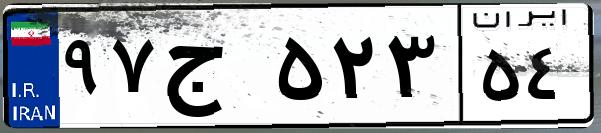2: (330, 28, 385, 110)
3: (385, 28, 445, 110)
4: (525, 38, 570, 115)
5: (270, 28, 330, 110), (475, 38, 525, 113)
7: (110, 28, 158, 98)
9: (57, 26, 110, 100)
ج: (158, 20, 270, 120)
